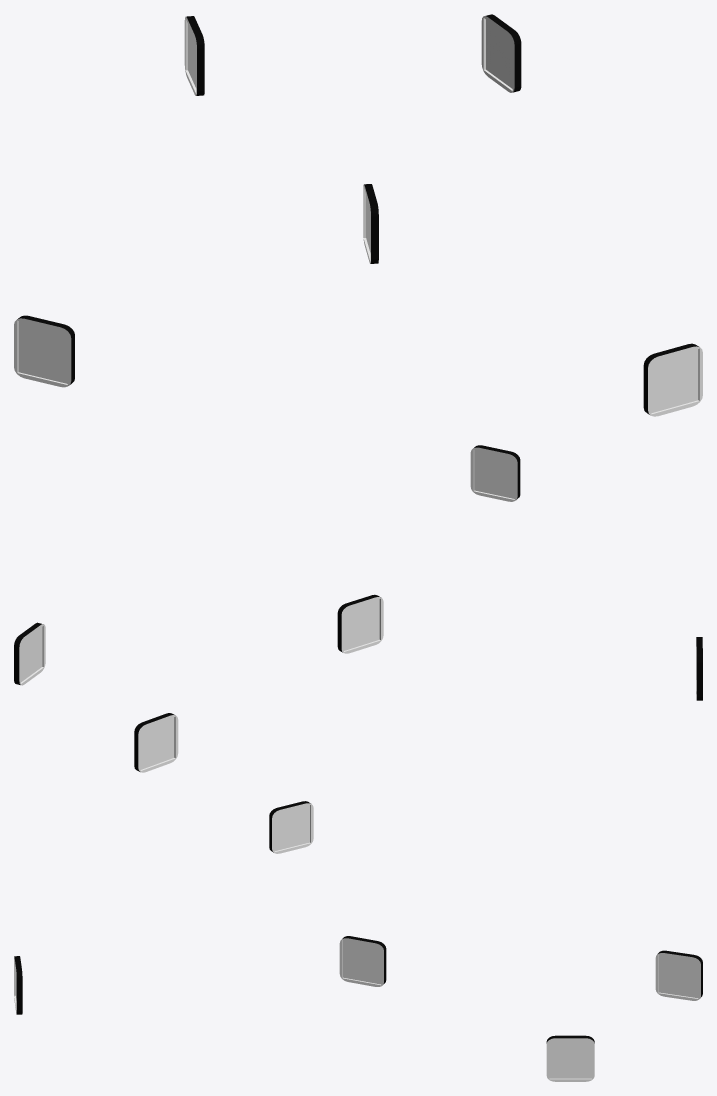
Rendered from CombinedMesh-MeshBaker (0)-mesh.fbx.
The picture shows the model from 3 angles, top to bottom: view 1: azimuth 30°, elevation 25°; view 2: azimuth 150°, elevation 25°; view 3: azimuth 270°, elevation 25°; orthographic projection. The views are drawn at different scales.
Visible parts, largest first — view 1: MeshBaker__0__mesh_mesh; view 2: MeshBaker__0__mesh_mesh; view 3: MeshBaker__0__mesh_mesh.
Part boxes in pixels (x1,y1,x2,y2): MeshBaker__0__mesh_mesh: [14, 14, 702, 416]; MeshBaker__0__mesh_mesh: [14, 445, 702, 772]; MeshBaker__0__mesh_mesh: [14, 801, 702, 1081].
Size of the model in its own units: 2381 by 203 by 2904.
